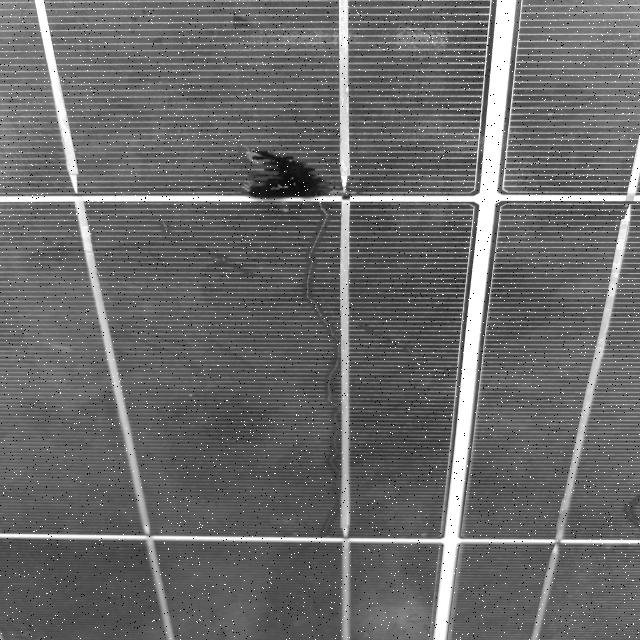electrical damage: (104, 42, 456, 268)
